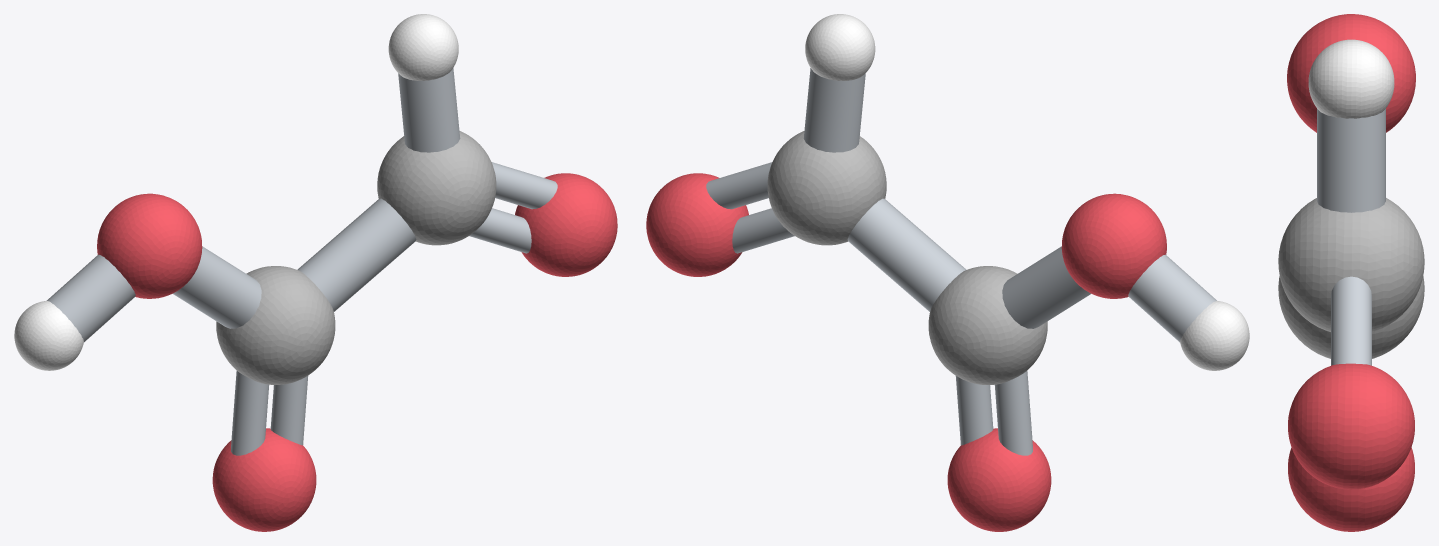
Rendered from Glioxilico.glb.
The picture shows the model from 3 angles, left to right: view 1: azimuth 30°, elevation 25°; view 2: azimuth 150°, elevation 25°; view 3: azimuth 270°, elevation 25°; orthographic projection. The views are drawn at different scales.
Size of the model in its own units: 4.87 by 3.7 by 0.8492.
